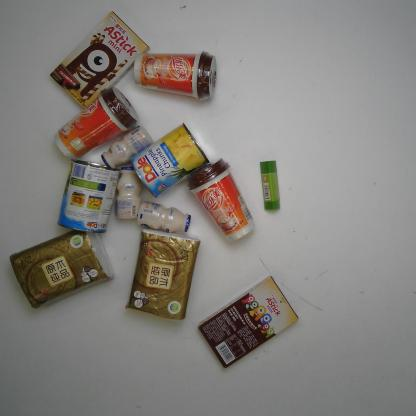Canned Food: (129, 123, 209, 199), (57, 158, 121, 233)
Dessert: (49, 10, 151, 113), (198, 276, 299, 368)
Instant Drink: (54, 87, 140, 162), (188, 158, 255, 243), (134, 50, 218, 101)
Milk: (100, 124, 153, 170), (137, 202, 193, 233), (116, 165, 143, 221)
Stationery: (260, 160, 280, 210)
Tissue: (9, 226, 116, 310), (124, 229, 200, 320)
